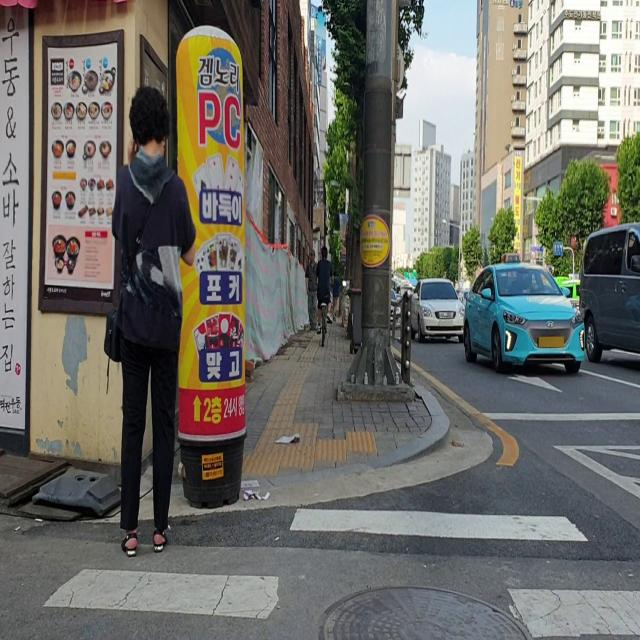횡단보도: (41, 505, 640, 640)
